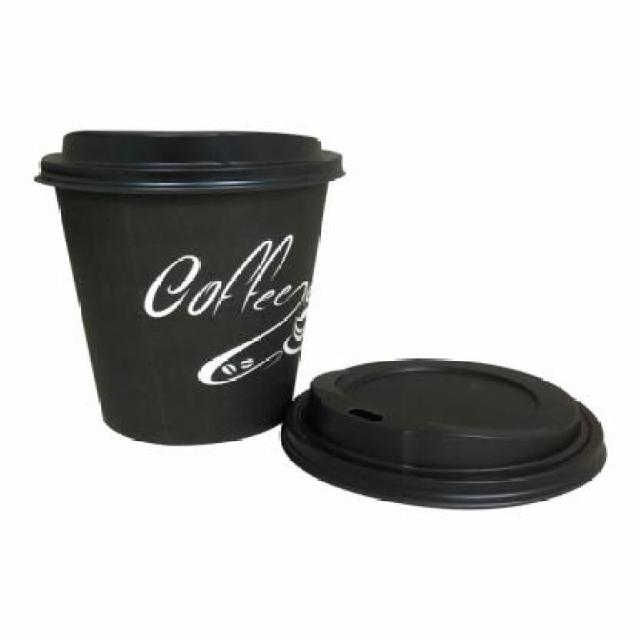non-biodegradable: (44, 130, 364, 456)
